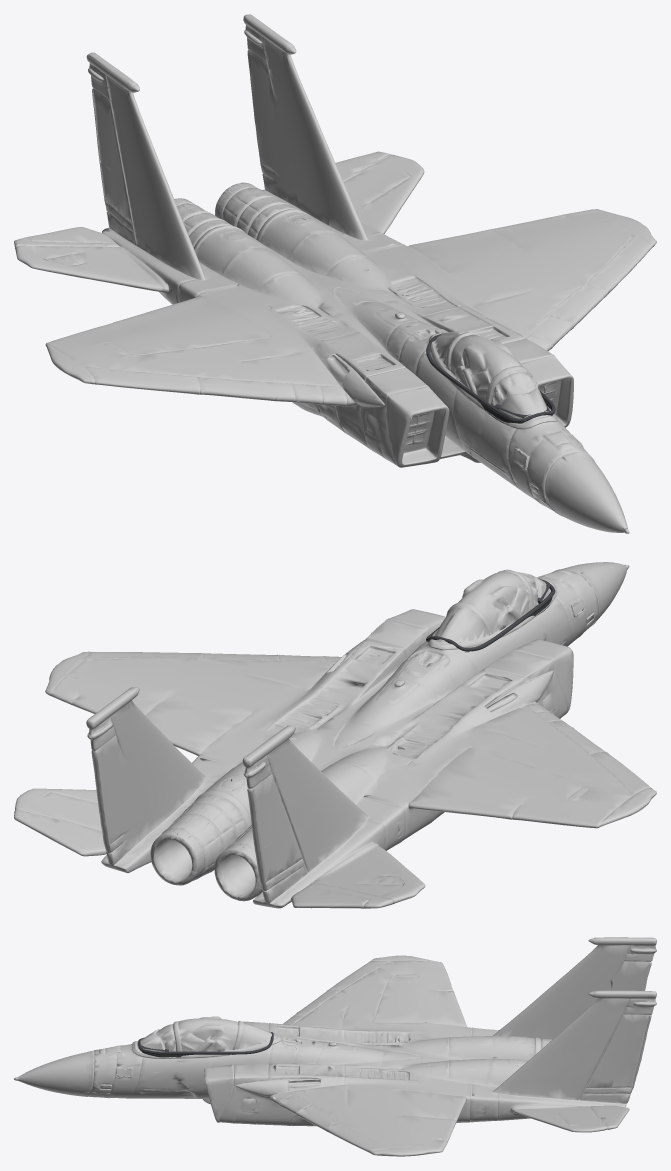
The picture shows the model from 3 angles, top to bottom: view 1: azimuth 30°, elevation 25°; view 2: azimuth 150°, elevation 25°; view 3: azimuth 270°, elevation 25°; orthographic projection. The views are drawn at different scales.
Visible parts, largest first — view 1: F15_Body, F15_Canopy, F15_ElevatorR, F15_ElevatorL, F15_RudderL, F15_RudderR, F15_AileronL, Pit_Static, F15_AileronR; view 2: F15_Body, F15_Canopy, F15_ElevatorR, F15_ElevatorL, F15_AileronR, F15_RudderR, F15_RudderL, F15_AileronL, Pit_Static; view 3: F15_Body, F15_Canopy, F15_ElevatorL, F15_RudderL, F15_RudderR, F15_AileronR, Pit_Static, F15_AileronL.
Part boxes in pixels (box(x1,y1,x2,y2)): F15_Body: box(45, 14, 656, 533); F15_Canopy: box(430, 331, 548, 418); F15_ElevatorR: box(14, 227, 160, 291); F15_ElevatorL: box(335, 151, 424, 233); F15_RudderL: box(247, 47, 269, 132); F15_RudderR: box(92, 85, 112, 171); F15_AileronL: box(517, 209, 608, 236); Pit_Static: box(426, 333, 555, 423); F15_AileronR: box(48, 323, 136, 352); F15_Body: box(45, 562, 656, 908); F15_Canopy: box(432, 569, 549, 652); F15_ElevatorR: box(297, 846, 425, 908); F15_ElevatorL: box(14, 788, 102, 853); F15_AileronR: box(516, 798, 607, 828); F15_RudderR: box(247, 770, 275, 850); F15_RudderL: box(91, 732, 118, 812); F15_AileronL: box(46, 676, 135, 713); Pit_Static: box(426, 578, 555, 651); F15_Body: box(14, 937, 656, 1156); F15_Canopy: box(140, 1016, 271, 1051); F15_ElevatorL: box(513, 1108, 629, 1132); F15_RudderL: box(620, 1013, 652, 1062); F15_RudderR: box(620, 960, 652, 990); F15_AileronR: box(416, 962, 452, 989); Pit_Static: box(138, 1032, 273, 1058); F15_AileronL: box(416, 1123, 453, 1150).
Bounding box in the file's own units: 13.05 × 4.32 × 17.81.
